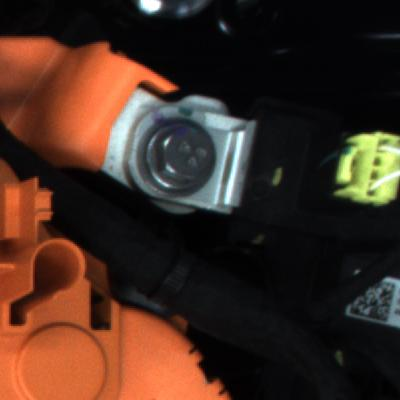nut_b: (132, 115, 232, 205)
